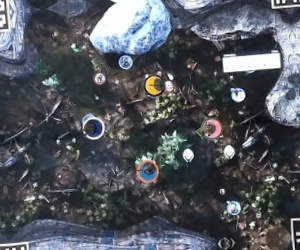blue: (80, 113, 105, 138)
light_blue_orange: (135, 160, 160, 185)
pink_green: (198, 116, 223, 141)
yellow_night_blue: (138, 74, 163, 99)
